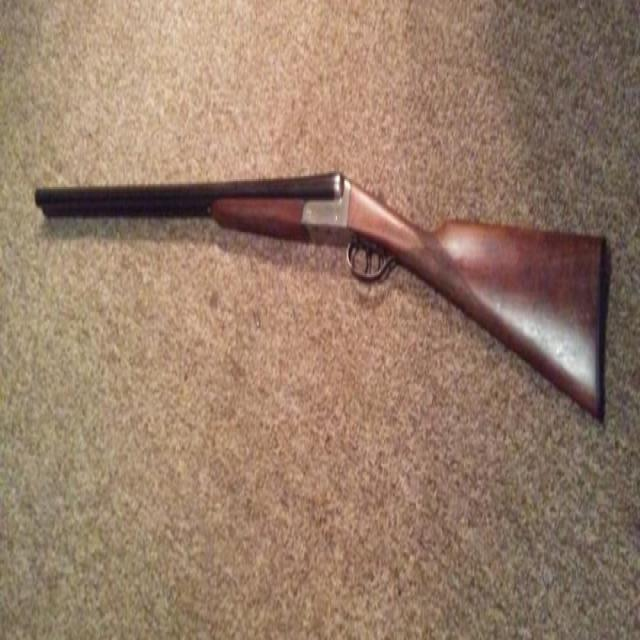ShotGun: (34, 174, 613, 422)
